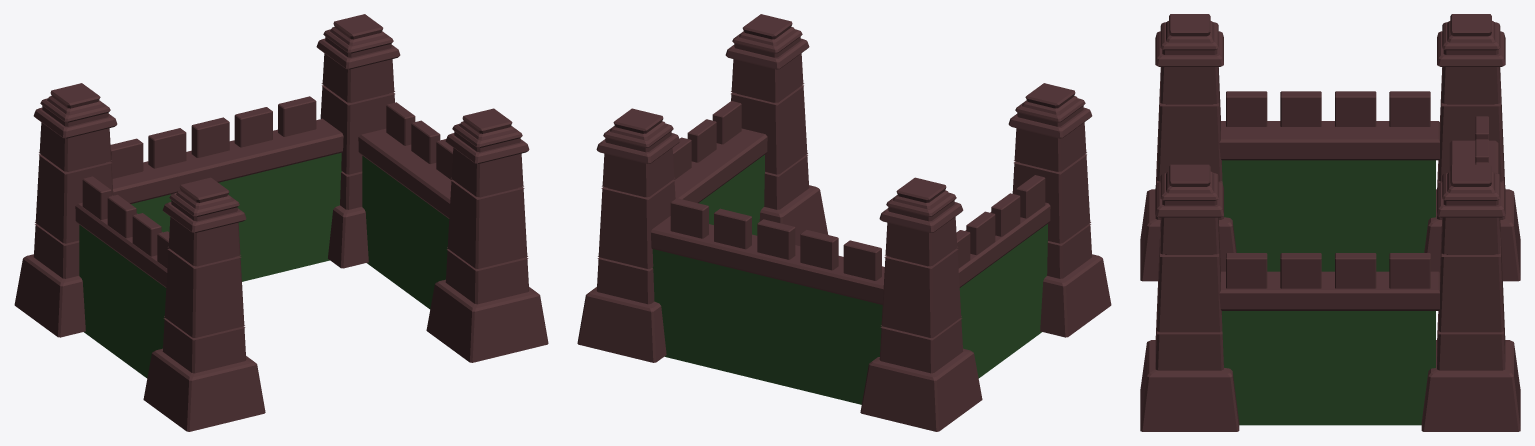
File: BazaarWall.fbx
3 renders of one model, left to right at view 1: azimuth 30°, elevation 25°; view 2: azimuth 150°, elevation 25°; view 3: azimuth 270°, elevation 25°, orthographic. The views are drawn at different scales.
Visible parts, largest first — view 1: Wall; view 2: Wall; view 3: Wall.
Part boxes in pixels (x1,y1,x2,y2): Wall: (14, 14, 548, 431); Wall: (577, 14, 1111, 431); Wall: (1140, 14, 1520, 431).
Bounding box in the file's own units: 2102 × 1227 × 1757.
